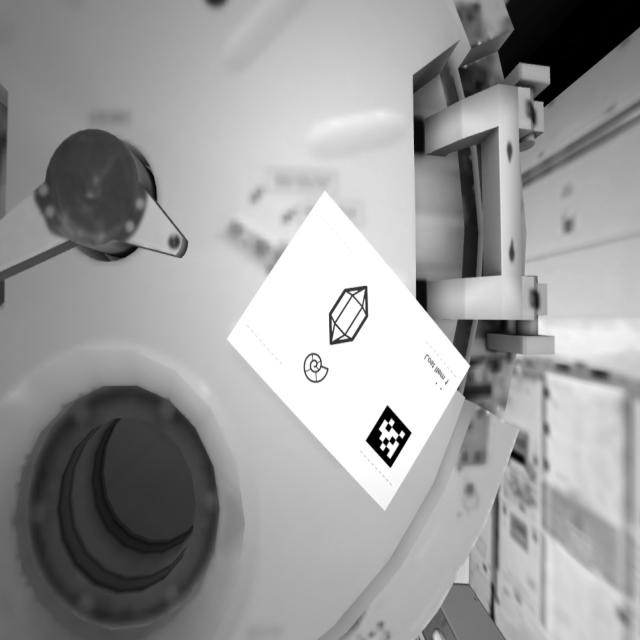crystal: (326, 280, 376, 352)
fossil: (301, 345, 336, 390)
